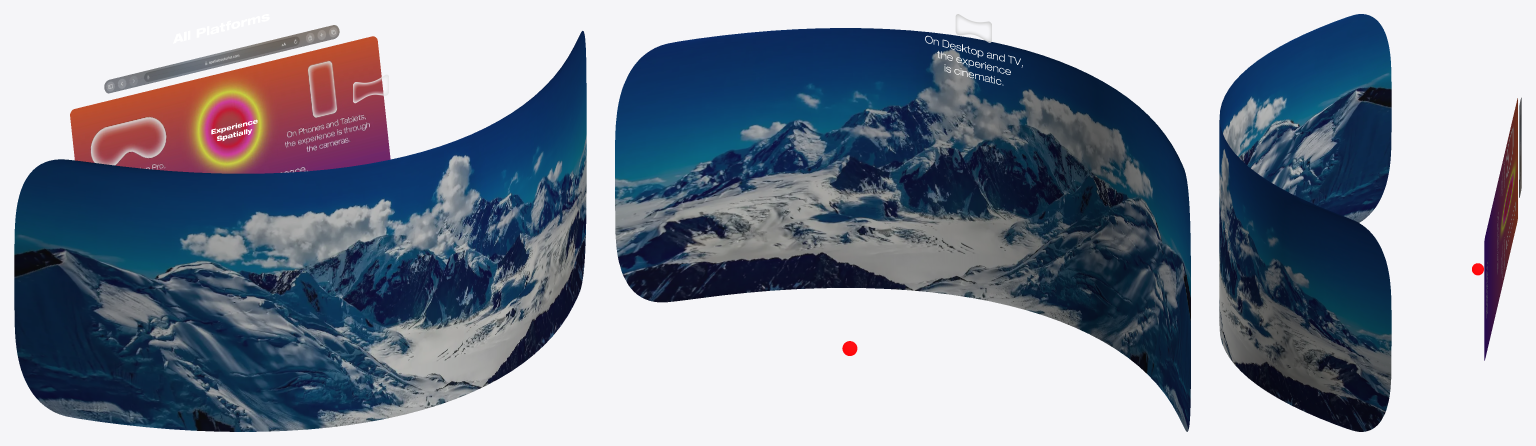
Rendered from canvasx-mobile.glb.
The picture shows the model from 3 angles, left to right: view 1: azimuth 30°, elevation 25°; view 2: azimuth 150°, elevation 25°; view 3: azimuth 270°, elevation 25°; orthographic projection. The views are drawn at different scales.
Visible parts, largest first — view 1: dd.002, dd.004, dd.005, dd.006; view 2: dd.002, dd.006; view 3: dd.002, dd.004.
Part boxes in pixels (x1,y1,x2,y2): dd.002: (14, 31, 586, 431); dd.004: (70, 36, 390, 173); dd.005: (104, 25, 339, 93); dd.006: (173, 14, 269, 43); dd.002: (615, 28, 1190, 431); dd.006: (925, 35, 1022, 85); dd.002: (1219, 14, 1391, 431); dd.004: (1484, 98, 1517, 360).
Bounding box in the file's own units: 17.26 × 8.96 × 9.63.
Materials: 7 (4 with a texture image).
